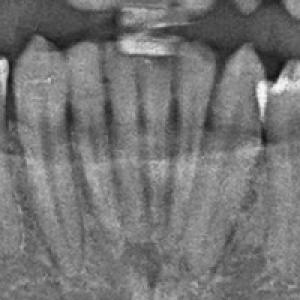tooth: (11, 30, 85, 275), (206, 42, 261, 272), (259, 57, 300, 254), (69, 38, 106, 229), (175, 38, 219, 191), (105, 56, 144, 206), (144, 61, 172, 200)
